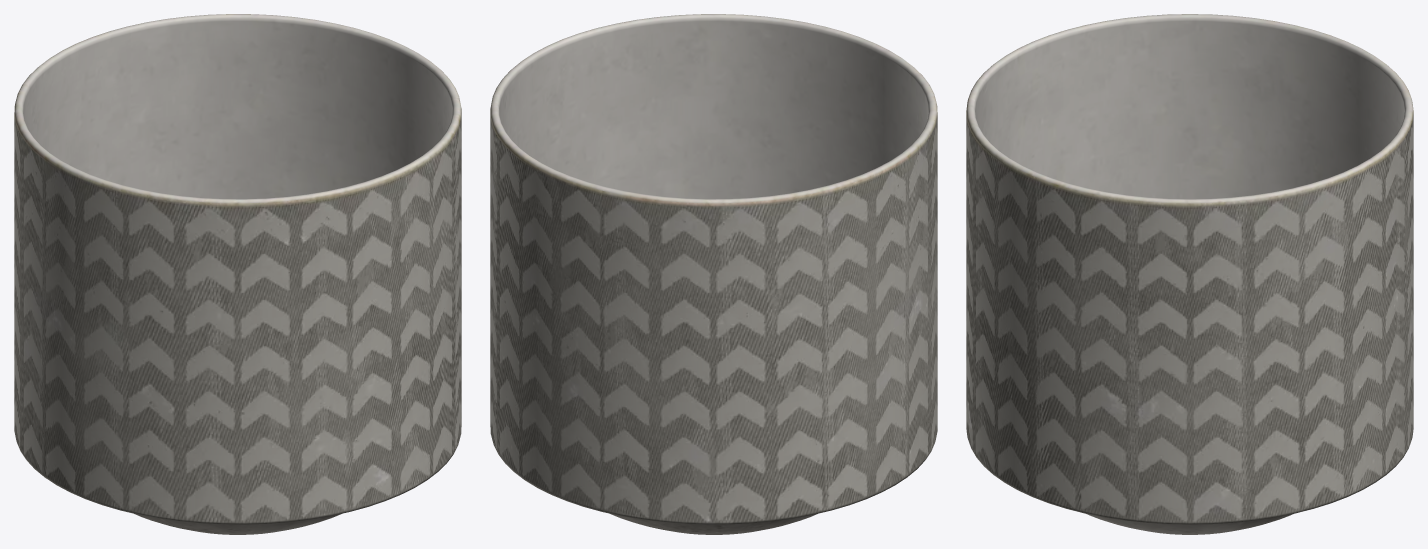
File: abo-B07QB8L7YC.glb
3 views of the same model, side by side, from view 1: azimuth 30°, elevation 25°; view 2: azimuth 150°, elevation 25°; view 3: azimuth 270°, elevation 25° (orthographic).
Size of the model in its own units: 0.25 by 0.239 by 0.25.
1 material, 1 textured.
